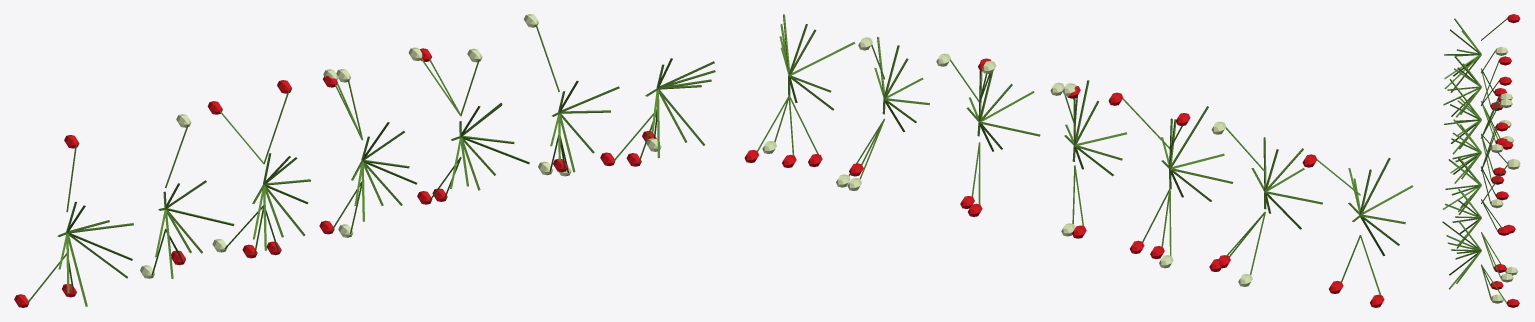
The model's file is r30c3_rest.obj.
3 renders of one model, left to right at view 1: azimuth 30°, elevation 25°; view 2: azimuth 150°, elevation 25°; view 3: azimuth 270°, elevation 25°, orthographic. The views are drawn at different scales.
Parts seen in each view (by area): view 1: r30c3_rest; view 2: r30c3_rest; view 3: r30c3_rest.
Part boxes in pixels (bbox=[...]): r30c3_rest: bbox=[14, 14, 715, 307]; r30c3_rest: bbox=[744, 14, 1413, 307]; r30c3_rest: bbox=[1442, 14, 1520, 307].
Bounding box in the file's own units: 1.68 × 0.3999 × 0.2529.
